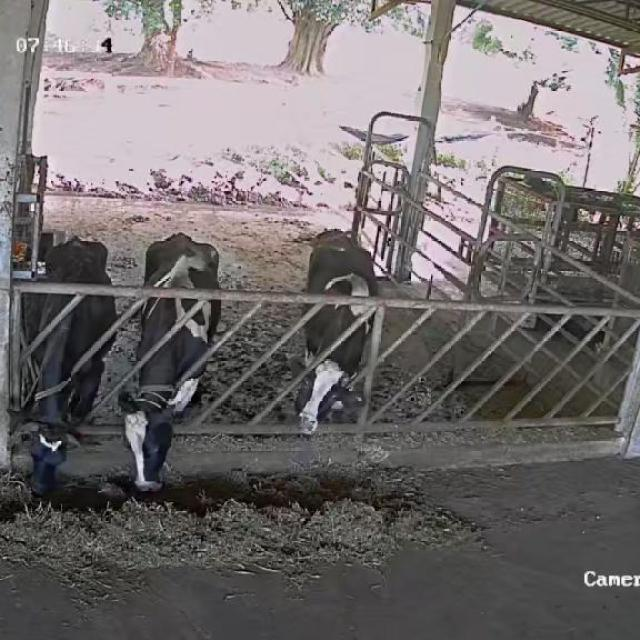feeding: (1, 232, 120, 492), (112, 228, 230, 488), (293, 233, 391, 446)
